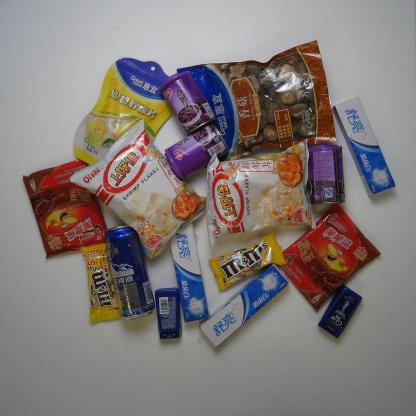Alcohol: (102, 224, 155, 320)
Canned Food: (159, 68, 217, 136), (167, 126, 228, 178), (309, 140, 348, 206)
Chocolate: (208, 232, 286, 291), (81, 242, 122, 324)
Dessert: (280, 204, 382, 312), (21, 161, 109, 257)
Dried Food: (179, 39, 338, 163)
Dried Fruit: (73, 57, 177, 168)
Personal Hygiene: (200, 263, 290, 348), (332, 97, 397, 198), (166, 223, 212, 323), (318, 284, 364, 342), (155, 287, 182, 342)
Puffed Food: (70, 118, 209, 260), (201, 138, 317, 245)
